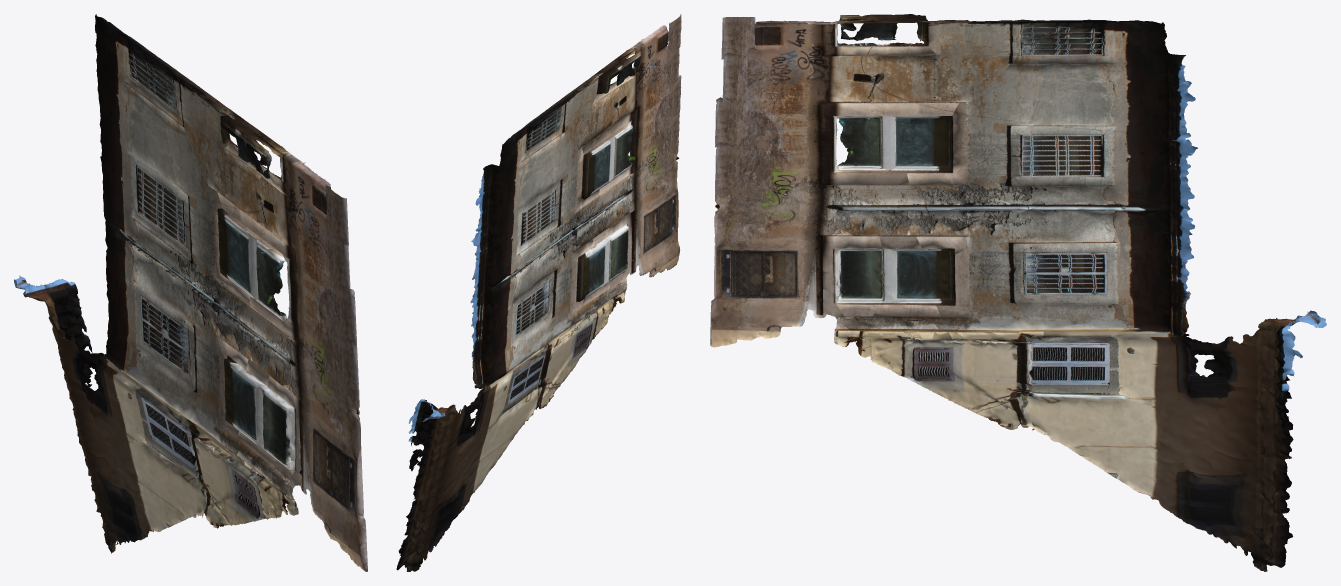
The picture shows the model from 3 angles, left to right: view 1: azimuth 30°, elevation 25°; view 2: azimuth 150°, elevation 25°; view 3: azimuth 270°, elevation 25°; orthographic projection. The views are drawn at different scales.
Parts seen in each view (by area): view 1: Object_5, Object_3, Object_4, Object_1, Object_2; view 2: Object_5, Object_4, Object_1, Object_3, Object_2; view 3: Object_5, Object_4, Object_3, Object_1, Object_2.
Part boxes in pixels (bbox=[...]): Object_5: bbox=[14, 14, 367, 571]; Object_3: bbox=[334, 284, 356, 346]; Object_4: bbox=[336, 333, 359, 396]; Object_1: bbox=[325, 185, 350, 290]; Object_2: bbox=[326, 186, 348, 245]; Object_5: bbox=[396, 25, 679, 571]; Object_4: bbox=[666, 87, 679, 155]; Object_1: bbox=[666, 23, 679, 89]; Object_3: bbox=[668, 75, 681, 121]; Object_2: bbox=[668, 14, 681, 55]; Object_5: bbox=[710, 14, 1326, 571]; Object_4: bbox=[715, 74, 747, 192]; Object_3: bbox=[715, 29, 747, 147]; Object_1: bbox=[722, 17, 755, 102]; Object_2: bbox=[721, 17, 753, 59].
Size of the model in its own units: 7.12 by 43.17 by 40.18.
Materials: 1 (1 with a texture image).
